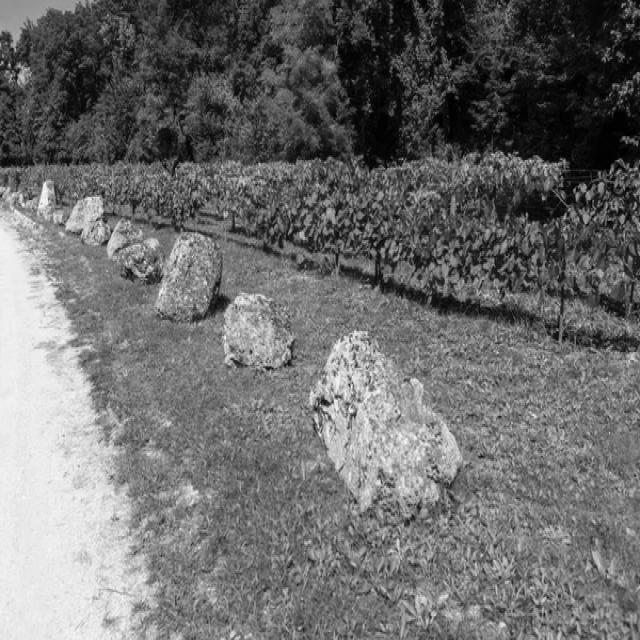Stone: (310, 331, 463, 504), (155, 232, 222, 321), (222, 293, 295, 371), (118, 238, 166, 282), (65, 197, 107, 233), (107, 219, 142, 260), (81, 219, 111, 246)
